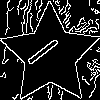I: (25, 30, 68, 68)
